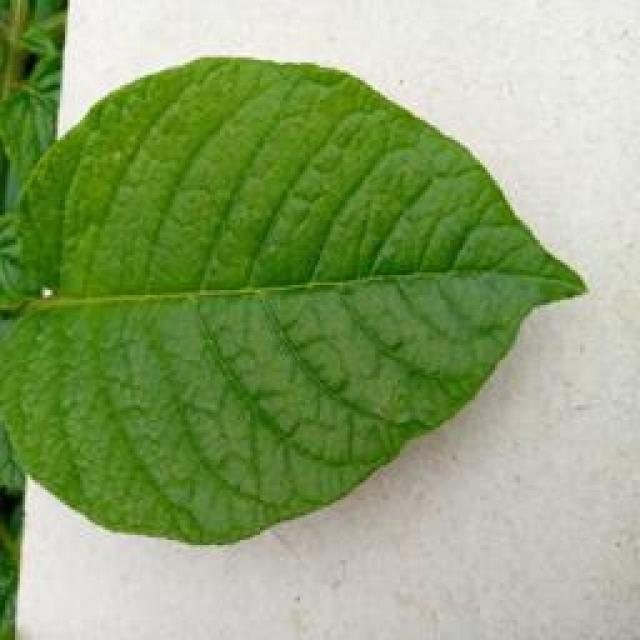healthy: (0, 50, 590, 550)
